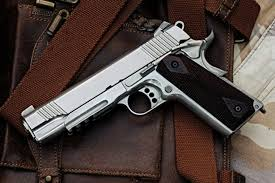gun: (16, 19, 270, 147)
